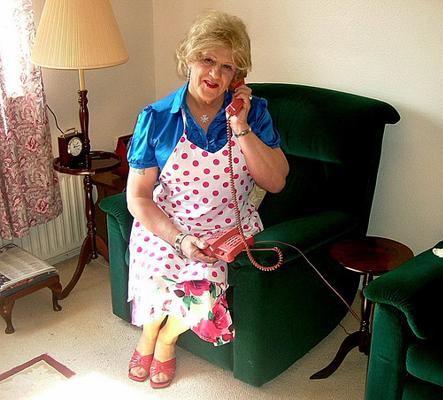person: (121, 21, 295, 392)
